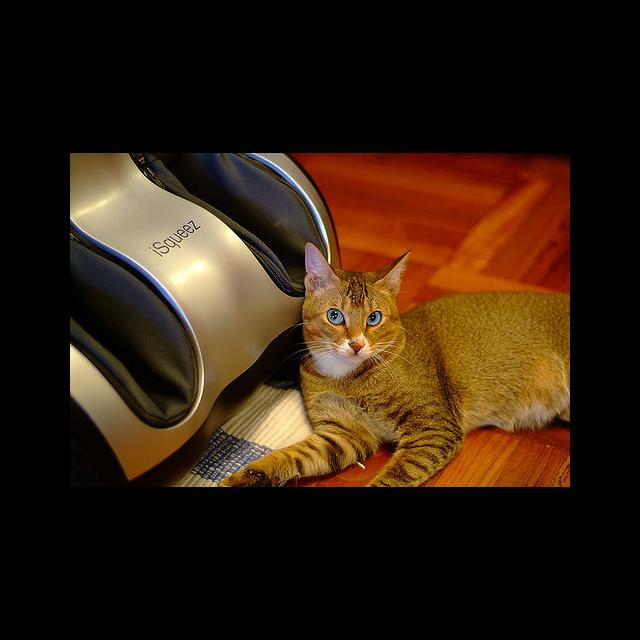animals: (307, 243, 410, 351)
